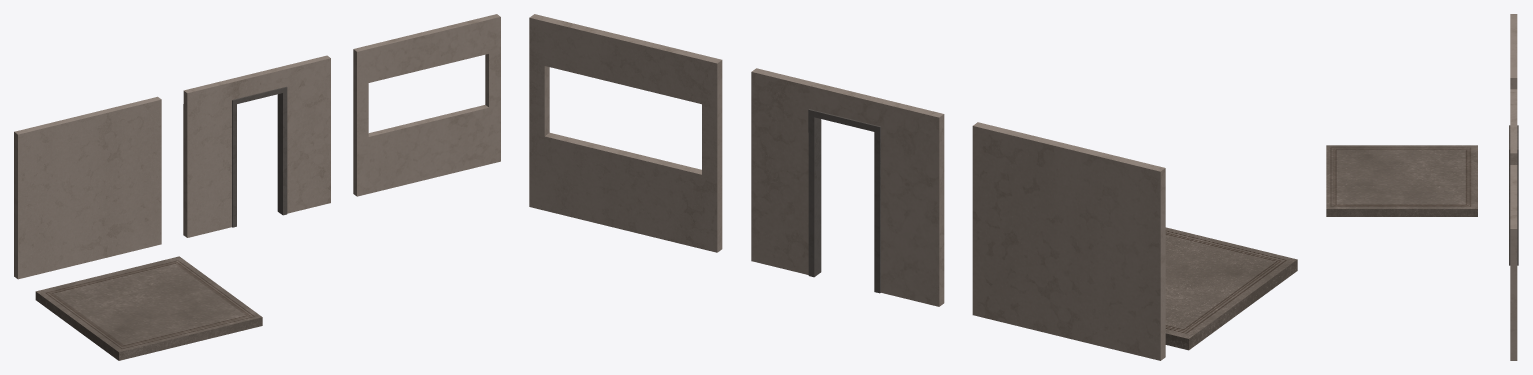
Rendered from Walls.fbx.
The picture shows the model from 3 angles, left to right: view 1: azimuth 30°, elevation 25°; view 2: azimuth 150°, elevation 25°; view 3: azimuth 270°, elevation 25°; orthographic projection. The views are drawn at different scales.
Visible parts, largest first — view 1: Wall, Wall_Door, Wall_Window, Floor; view 2: Wall, Wall_Door, Wall_Window, Floor; view 3: Floor, Wall_Window, Wall_Door, Wall.
Part boxes in pixels (x1=…): Wall: x1=14, y1=96, x2=161, y2=279; Wall_Door: x1=183, y1=55, x2=330, y2=237; Wall_Window: x1=353, y1=14, x2=500, y2=196; Floor: x1=35, y1=256, x2=262, y2=360; Wall: x1=972, y1=122, x2=1165, y2=360; Wall_Door: x1=751, y1=68, x2=944, y2=306; Wall_Window: x1=529, y1=14, x2=722, y2=252; Floor: x1=1165, y1=227, x2=1297, y2=350; Floor: x1=1326, y1=145, x2=1477, y2=216; Wall_Window: x1=1510, y1=165, x2=1517, y2=360; Wall_Door: x1=1509, y1=89, x2=1518, y2=265; Wall: x1=1510, y1=14, x2=1517, y2=89.
Bounding box in the file's own units: 1732 × 523 × 656.
